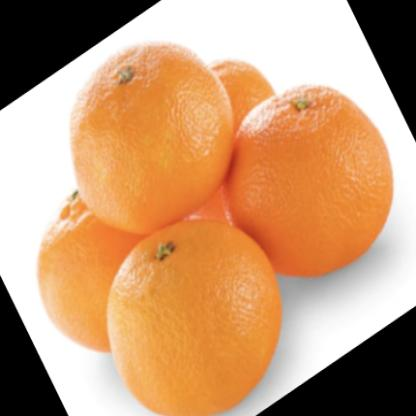fresh: (43, 42, 394, 416)
